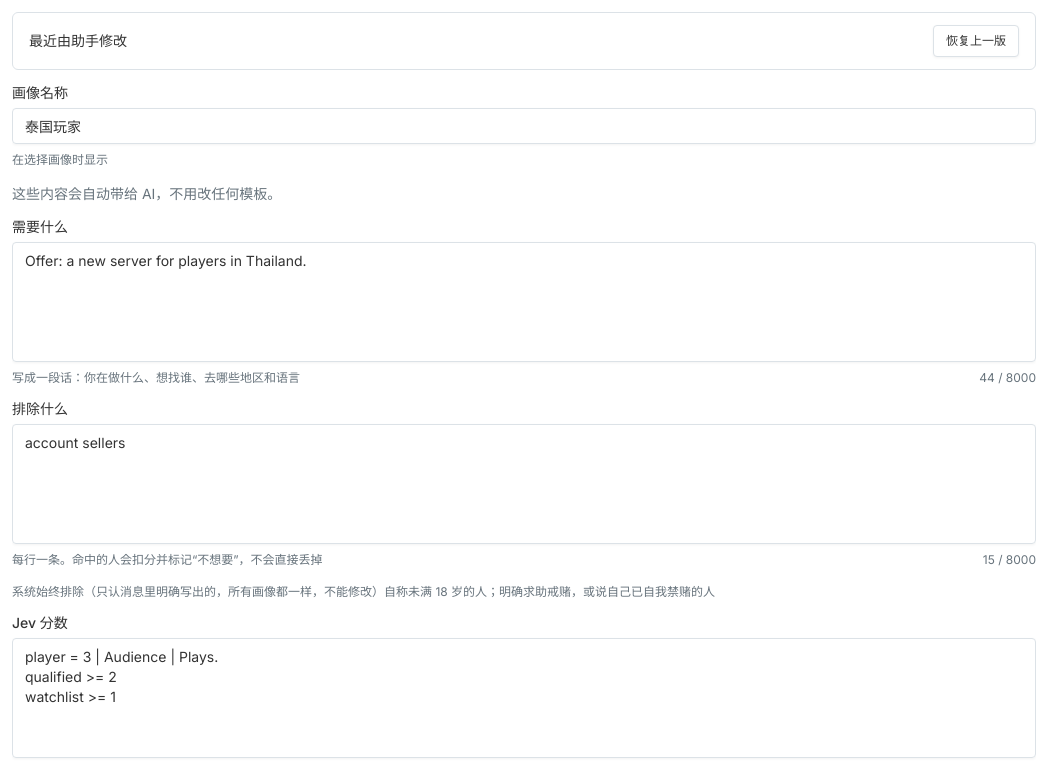
Test: GrowthProfileForm › restores the previous prompts after an assistant edit
The width and height of the screenshot is (1048, 767).
Expected: the text "最近由助手修改" is shown, [29,31,127,51]
What coordinates should you click on to do the following:
click the button "恢复上一版"
I would click on:
 (976, 41)
Its box is [933,25,1019,57].
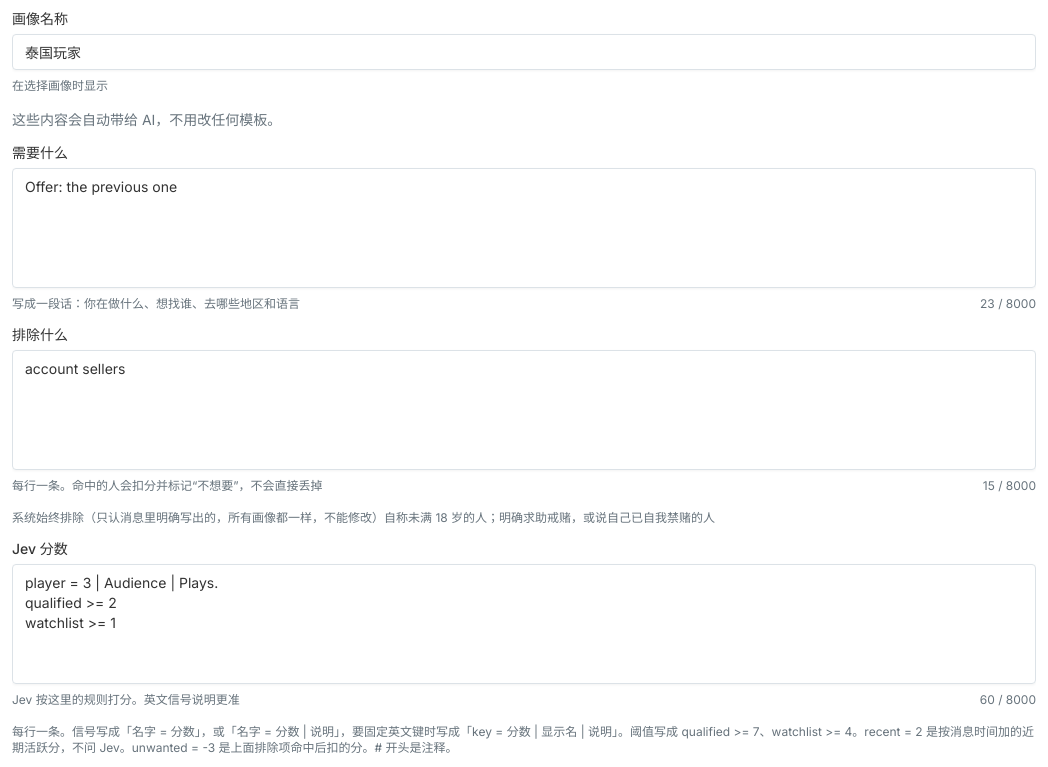
Result: the text box labelled "需要什么" holds "Offer: the previous one" at [12,168,1036,288]
Result: the text "最近由助手修改" is gone
